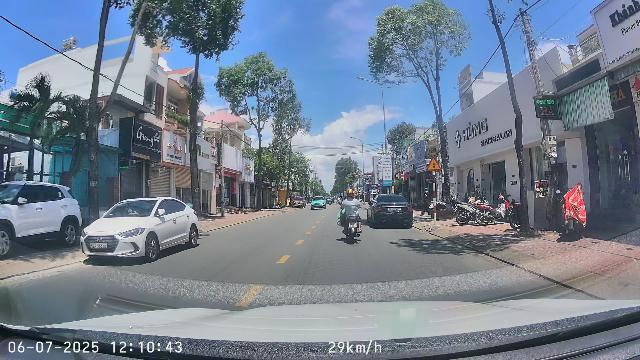209-giao-nhau-co-tin-hieu-den: (427, 156, 440, 171)
